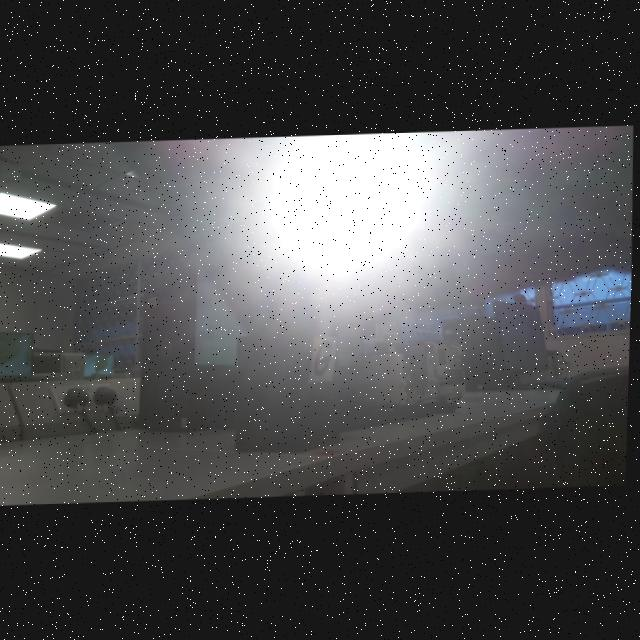G: (317, 341, 332, 376)
